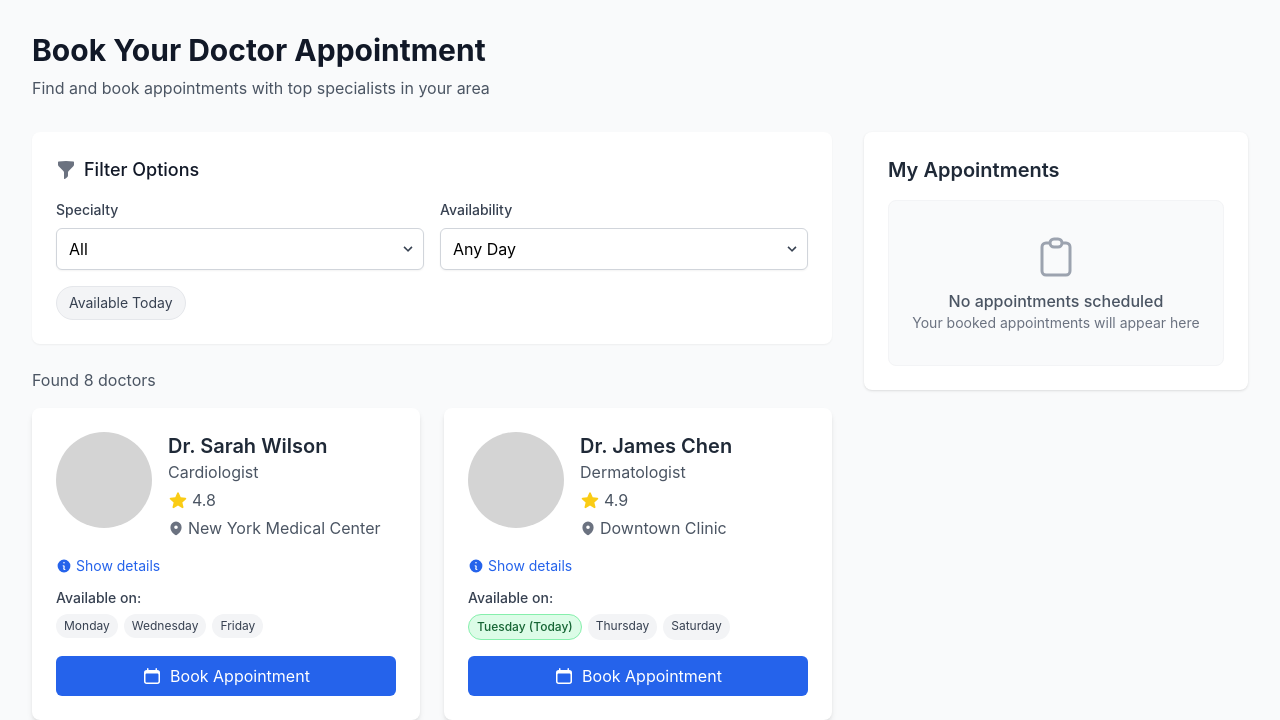
Test: App › using multiple filter combinations works correctly
Select "Cardiologist" in the dropdown named "filter by medical specialty" at (240, 249), box left=56, top=228, right=424, bottom=270
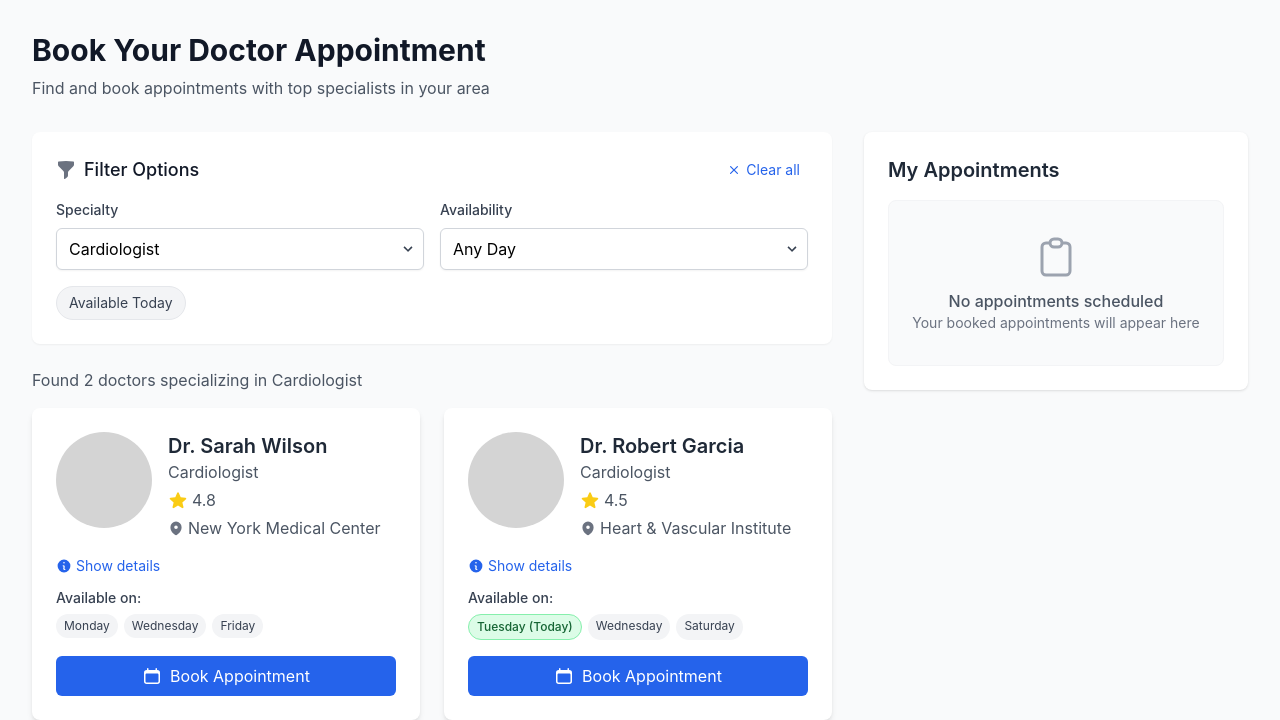
Select "Monday" in the dropdown named "filter by availability" at (624, 249), box left=440, top=228, right=808, bottom=270
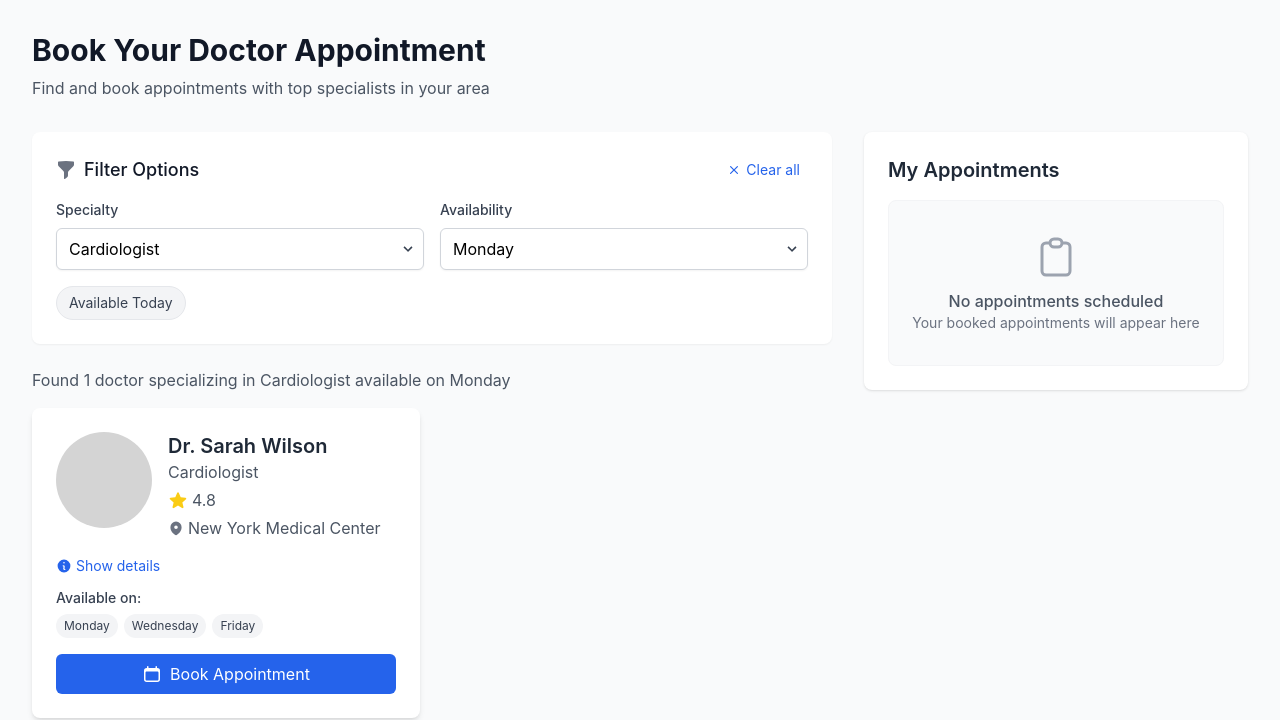
Now the text "Found 1 doctor specializing in Cardiologist available on Monday" is shown, box left=32, top=370, right=510, bottom=390
# Clear filters
Click the button "Clear all" at (763, 170), box left=718, top=156, right=808, bottom=184
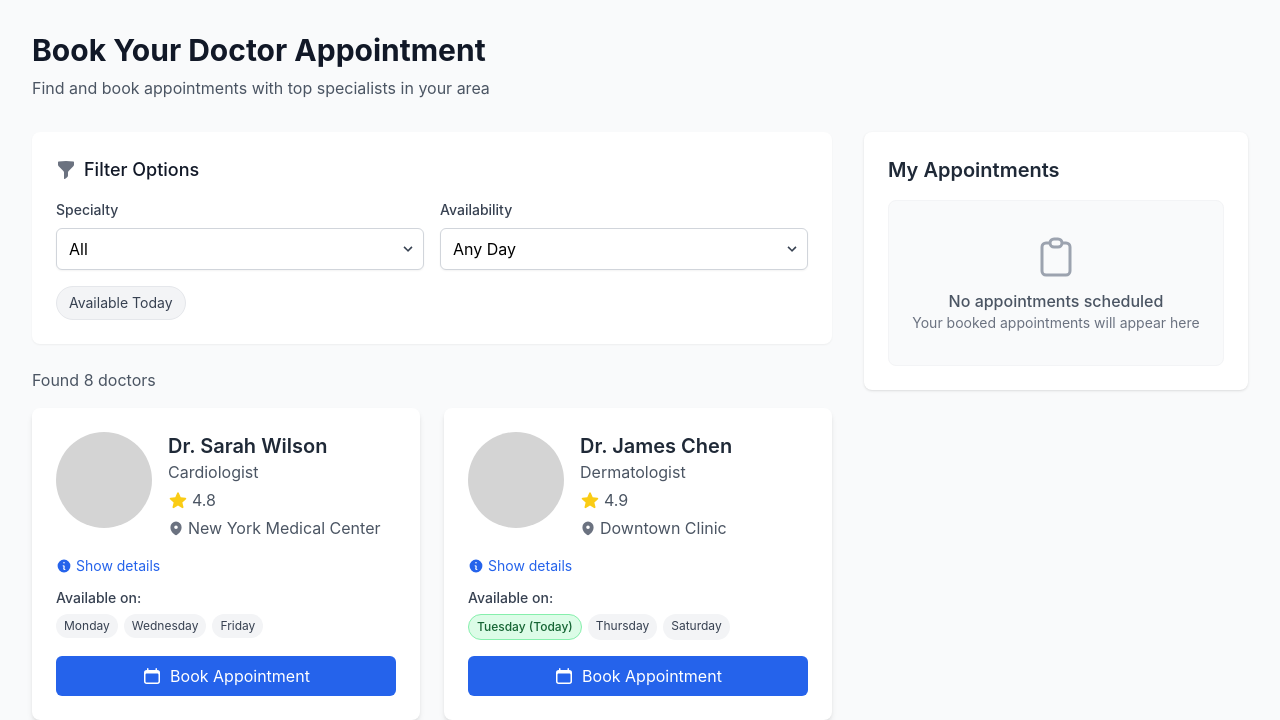
Now the text "Found 8 doctors" is shown, box left=32, top=370, right=156, bottom=390
